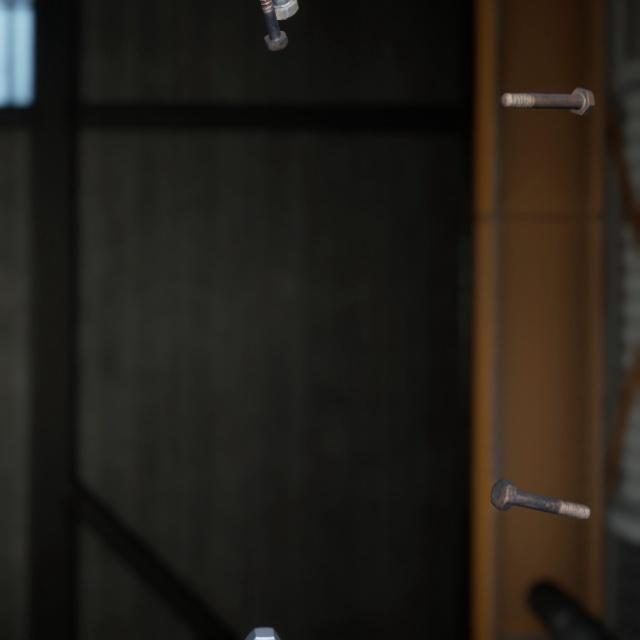bolt: (486, 452, 595, 503), (495, 72, 599, 108), (257, 0, 292, 47)
nut: (240, 598, 286, 640)
